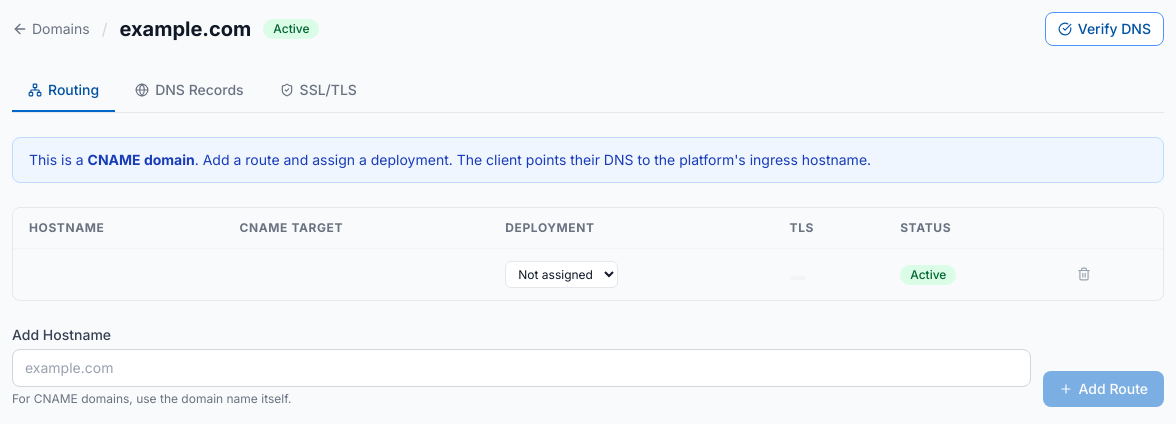
Test: DNS Records tab › shows confirm/cancel on delete click
Click the button with test id "tab-dns" at (189, 91), box [119,70,260,112]
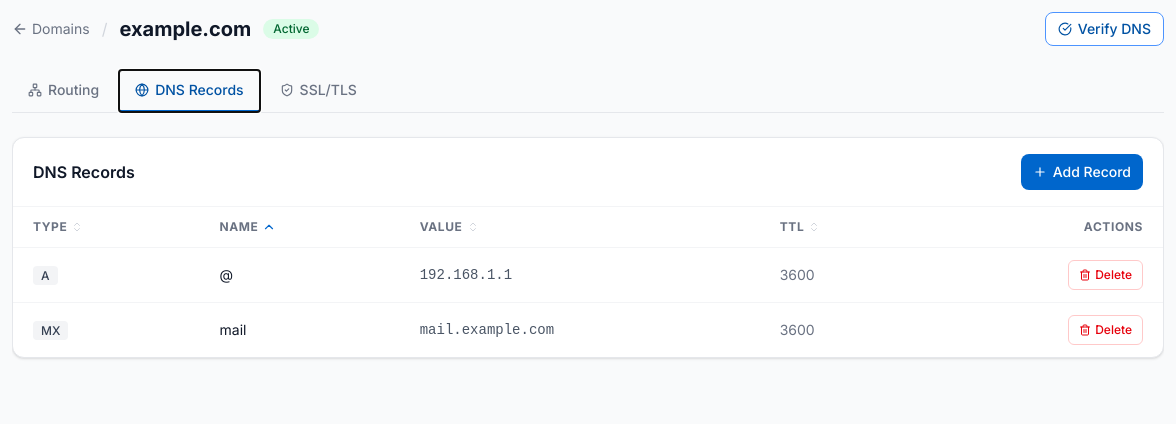
Result: the button with test id "delete-dns-rec-1" is shown
Click the button with test id "delete-dns-rec-1" at (1106, 275), box [1068,260,1143,290]
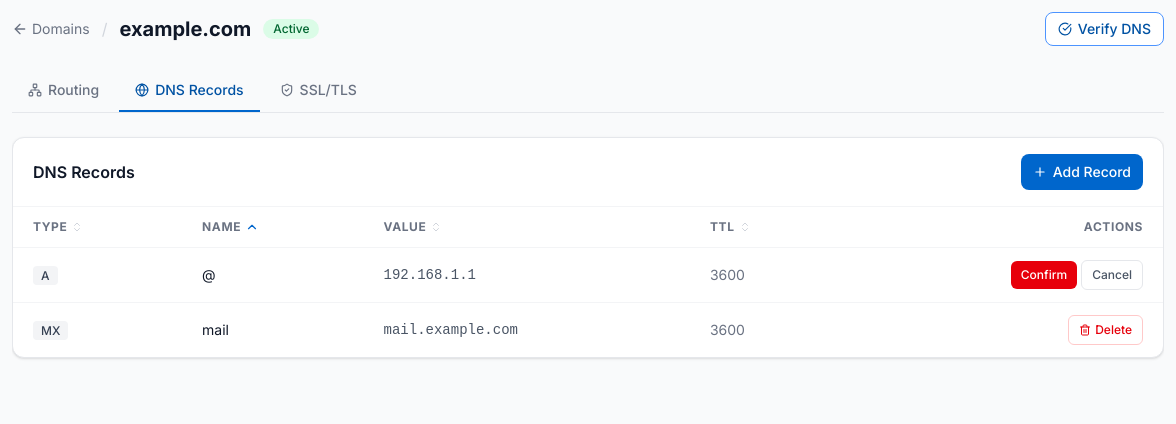
Result: the button with test id "confirm-delete-dns-rec-1" is shown at [1011,261,1077,289]
